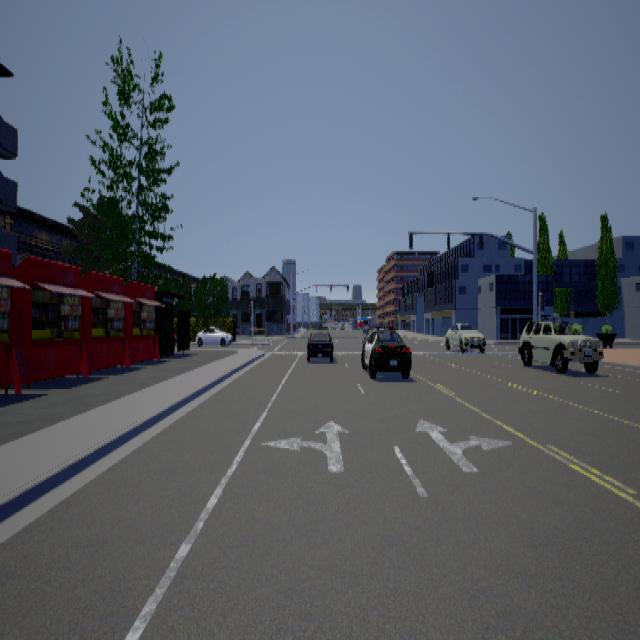red_light: (330, 285, 332, 294)
traffic_light: (348, 283, 350, 291)
vehicle: (519, 318, 605, 372), (362, 325, 413, 377), (446, 322, 487, 352), (308, 330, 335, 361), (197, 325, 234, 345)
